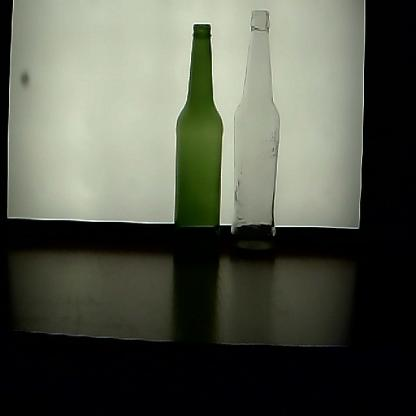Can: (163, 21, 229, 268), (228, 5, 282, 261)
